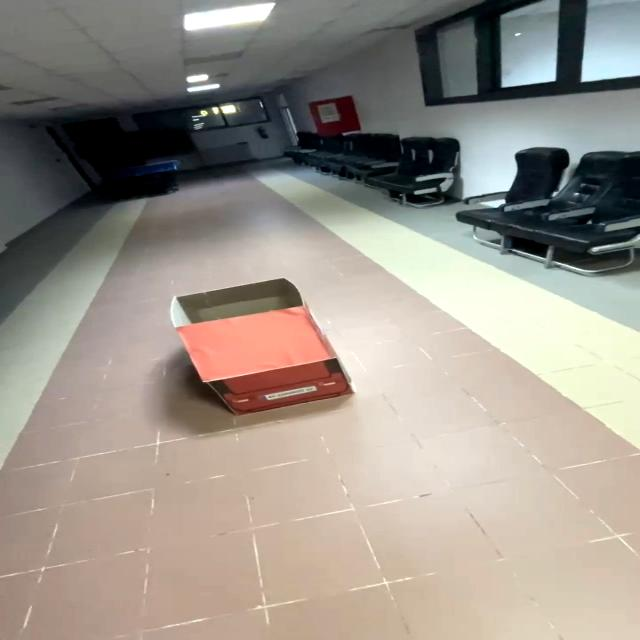red_car: (141, 268, 383, 431)
